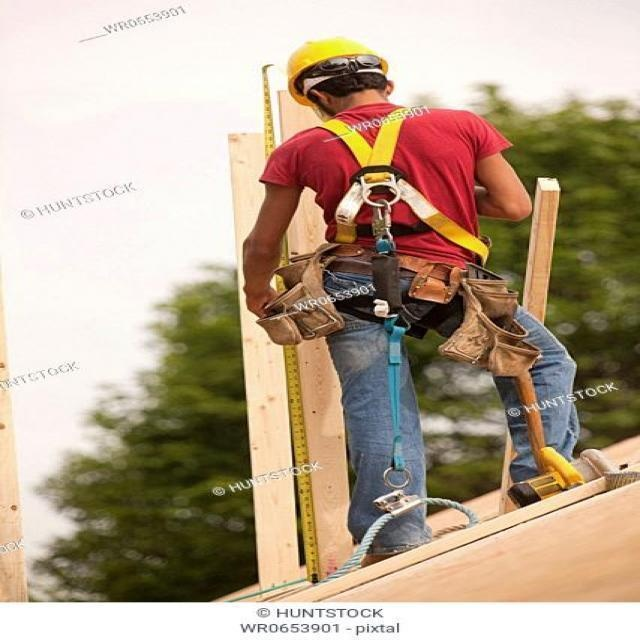Arnes_seguridad: (299, 97, 491, 270)
